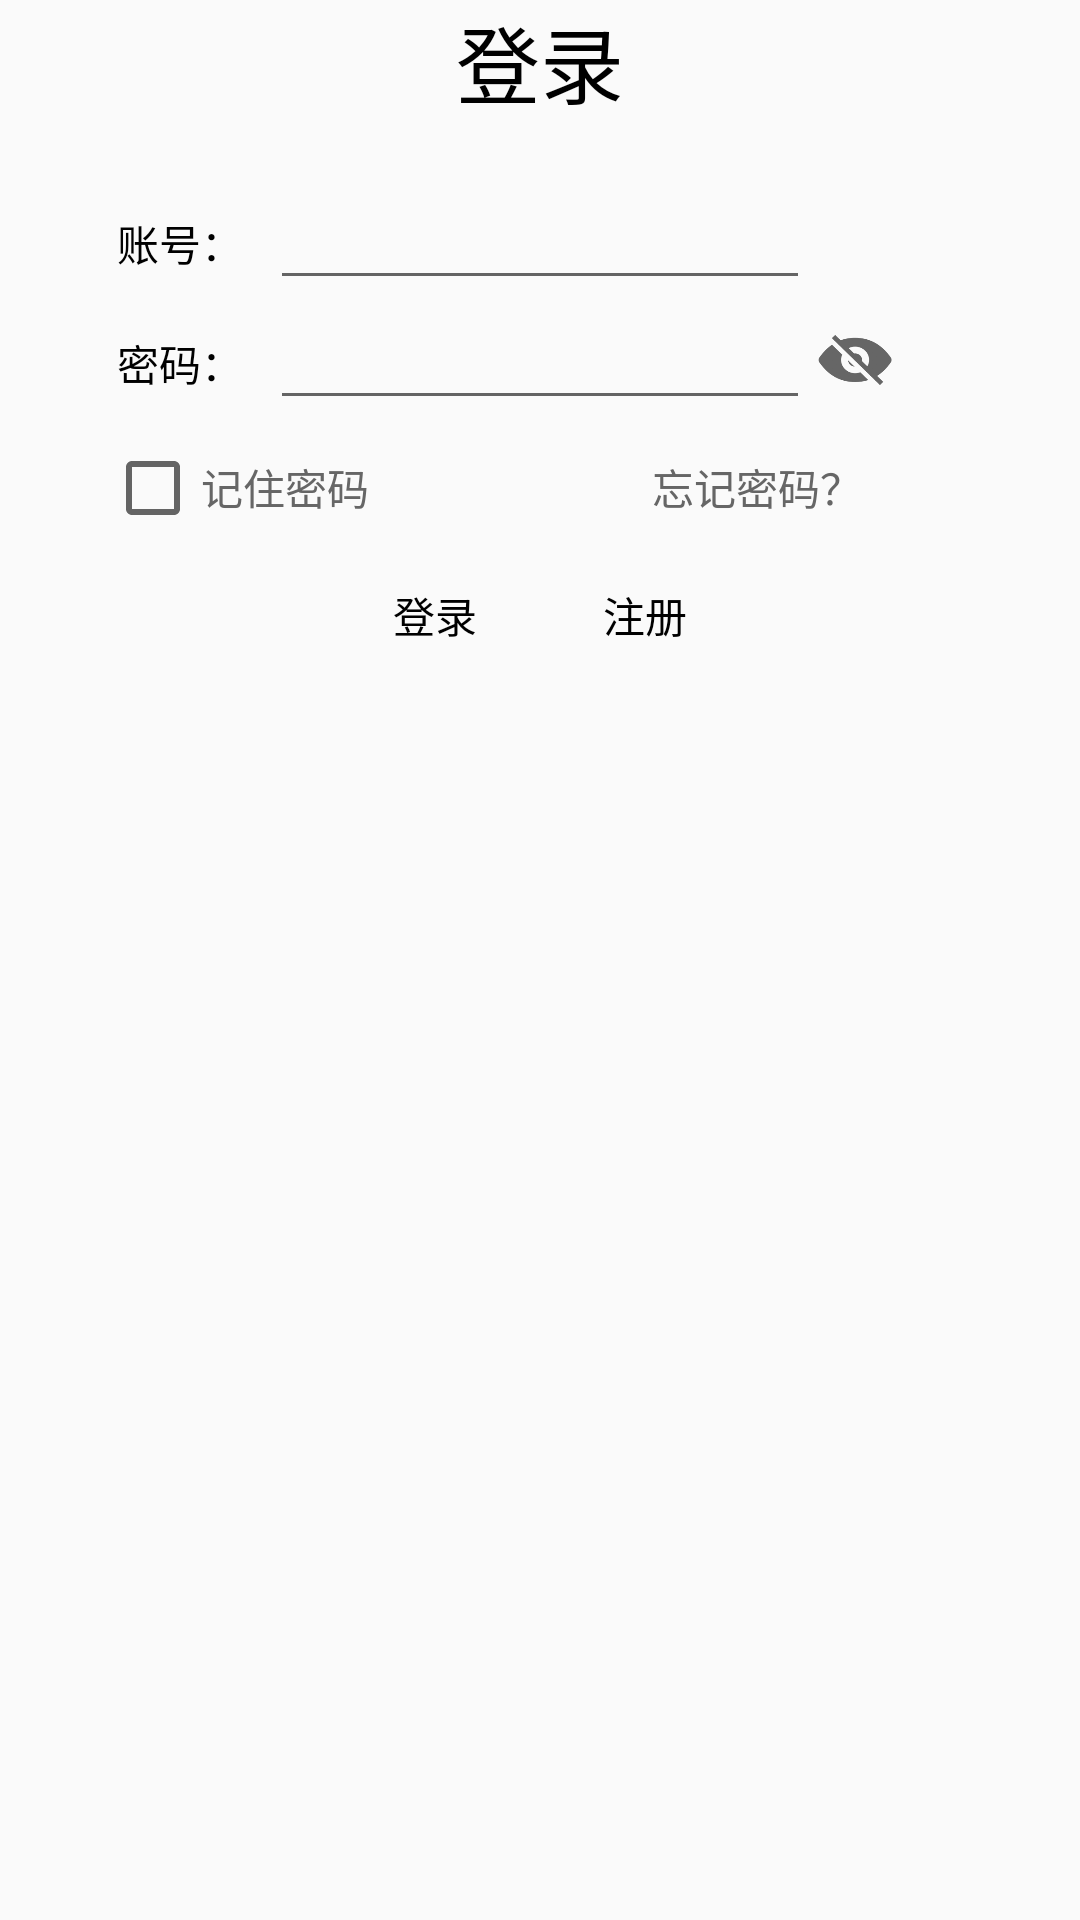

Icons on this 1080 × 1920 Android screen, each with the point to tap as (x=x, y=y):
invisible: (x=855, y=360)
